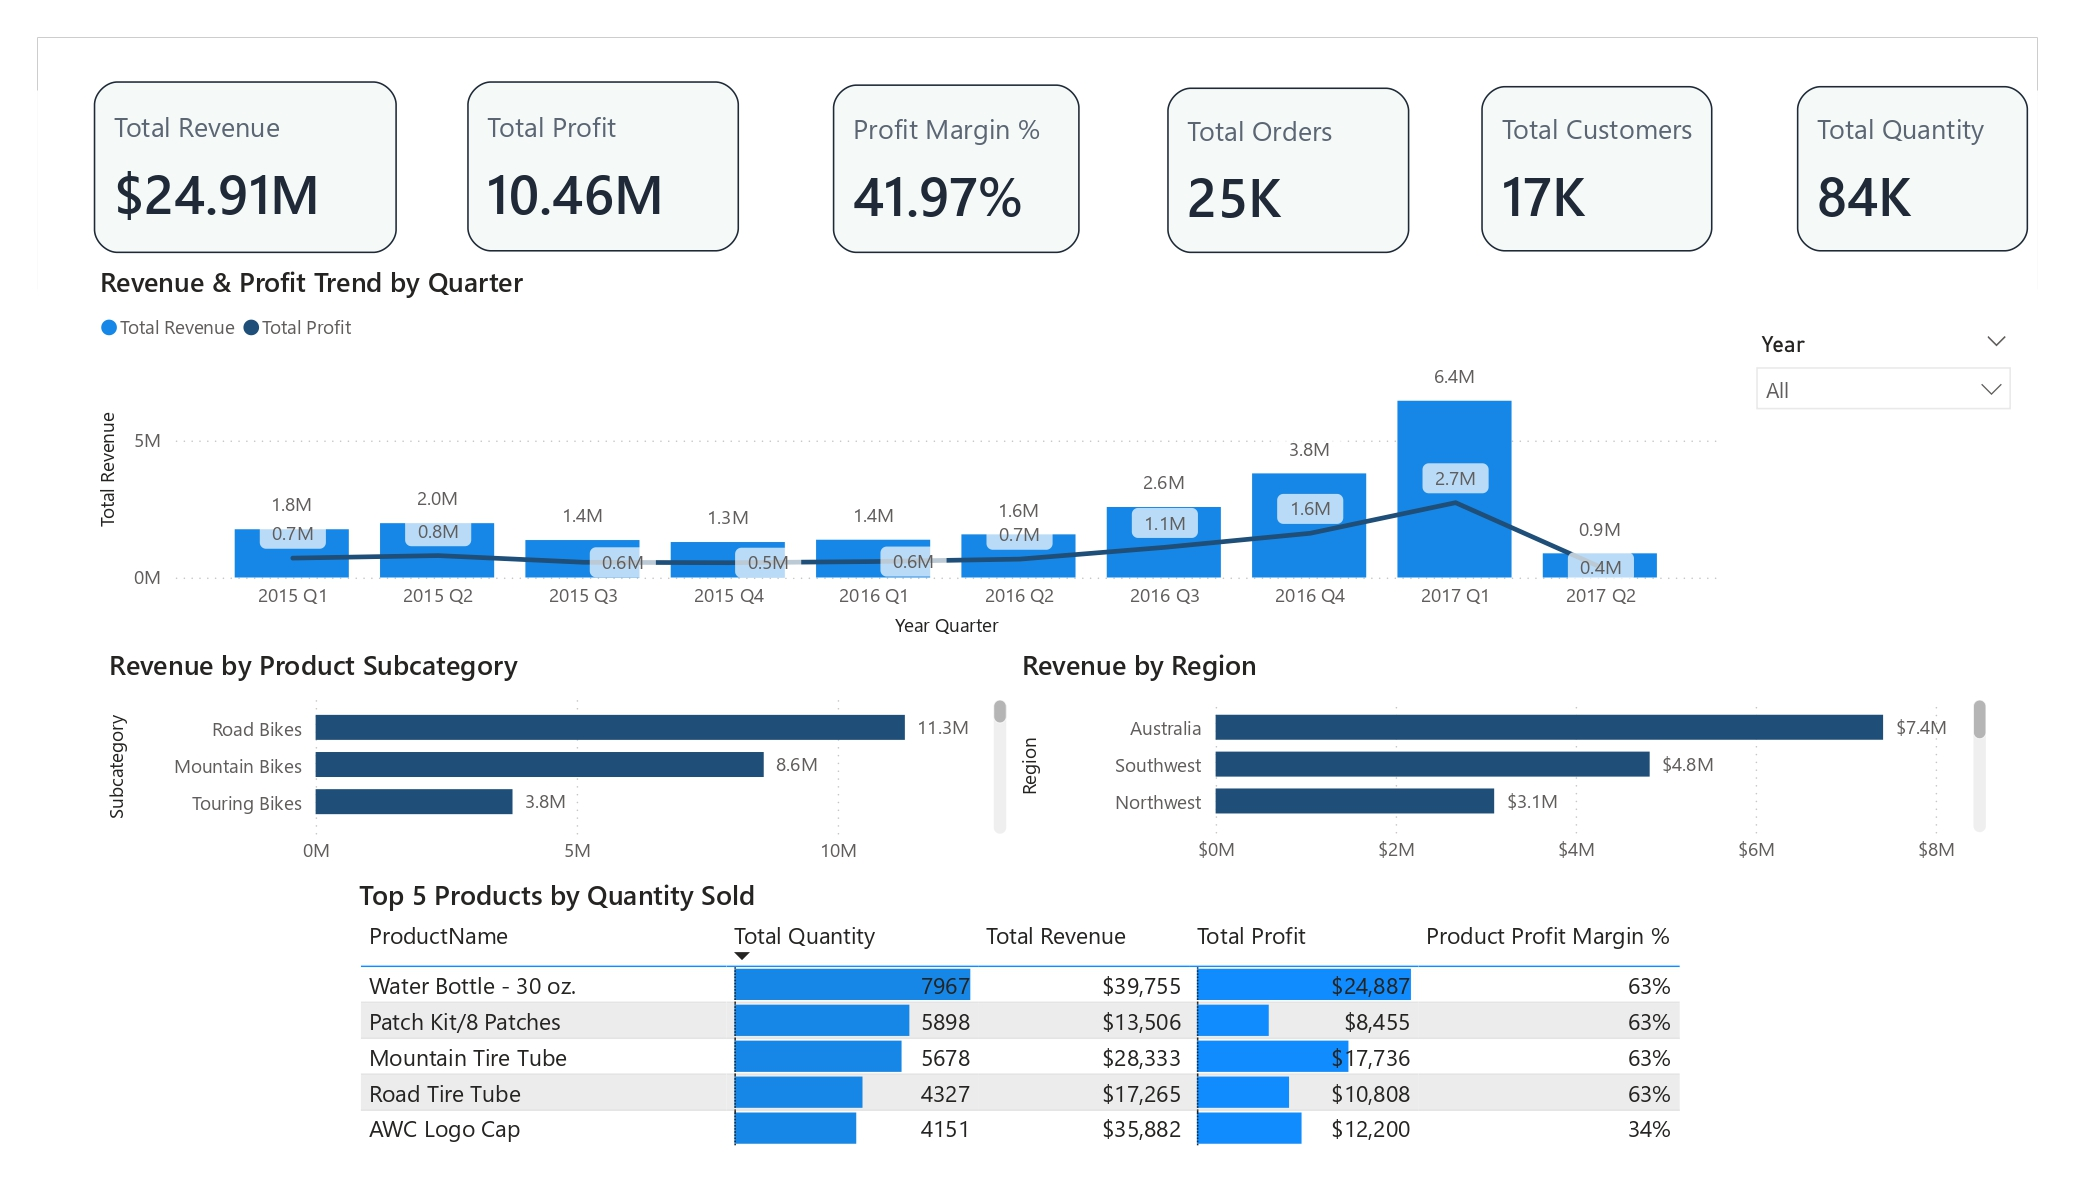

The dashboard page shown, as its layout file describes it:
{"tool":"powerbi","page":{"name":"Executive Sales & Operations Overview","canvas":[1280,720],"ordinal":0},"visuals":[{"type":"cardVisual","fields":{"Data":["Sales 2015-2017.Total Revenue"]},"box":[30.6,23.2,204.2,120],"z":0},{"type":"cardVisual","fields":{"Data":["Sales 2015-2017.Total Profit"]},"box":[269.8,23.1,184.7,119.7],"z":1000},{"type":"cardVisual","fields":{"Data":["Sales 2015-2017.Profit Margin %"]},"box":[503.5,24.5,168.8,118.3],"z":2000},{"type":"cardVisual","fields":{"Data":["Sales 2015-2017.Total Orders"]},"box":[718.5,27.4,165.9,116.9],"z":3000},{"type":"cardVisual","fields":{"Data":["Sales 2015-2017.Total Customers"]},"box":[919,26,158.7,116.9],"z":4000},{"type":"cardVisual","fields":{"Data":["Sales 2015-2017.Total Quantity"]},"box":[1121,26,158.7,116.9],"z":5000},{"type":"lineClusteredColumnComboChart","title":"Revenue & Profit Trend by Quarter","fields":{"Y":["Sales 2015-2017.Total Revenue"],"Y2":["Sales 2015-2017.Total Profit"],"Category":["Calendar.Year Quarter"]},"box":[35.5,144.3,1044.3,244.6],"z":6000},{"type":"clusteredBarChart","title":"Revenue by Region","fields":{"Category":["Territories.Region"],"Y":["Sales 2015-2017.Total Revenue"]},"box":[624.9,389.1,627.2,149.3],"z":7000},{"type":"barChart","title":"Revenue by Product Subcategory","fields":{"Category":["Product_Subcategories.SubcategoryName"],"Y":["Sales 2015-2017.Total Revenue"]},"box":[40.5,389.4,584,150],"z":8000},{"type":"tableEx","title":"Top 5 Products by Quantity Sold","fields":{"Values":["Products.ProductName","Sales 2015-2017.Total Quantity","Sales 2015-2017.Total Revenue","Sales 2015-2017.Total Profit","Sales 2015-2017.Product Profit Margin %"]},"box":[200.5,535.6,879.2,184.6],"z":9000},{"type":"slicer","fields":{"Values":["Calendar.Year"]},"box":[1089.5,183.4,183.4,63.6],"z":10000}]}

Visuals, with their boxes on the page's 1280x720 design canvas (x1, y1, x2, y2). These are canvas units, not pixel positions in the 2075x1200 screenshot, which may show the page scaled, cropped or inside an application window:
cardVisual - Sales 2015-2017.Total Revenue: box=[31, 23, 235, 143]
cardVisual - Sales 2015-2017.Total Profit: box=[270, 23, 454, 143]
cardVisual - Sales 2015-2017.Profit Margin %: box=[504, 24, 672, 143]
cardVisual - Sales 2015-2017.Total Orders: box=[718, 27, 884, 144]
cardVisual - Sales 2015-2017.Total Customers: box=[919, 26, 1078, 143]
cardVisual - Sales 2015-2017.Total Quantity: box=[1121, 26, 1280, 143]
"Revenue & Profit Trend by Quarter" lineClusteredColumnComboChart: box=[36, 144, 1080, 389]
"Revenue by Region" clusteredBarChart: box=[625, 389, 1252, 538]
"Revenue by Product Subcategory" barChart: box=[40, 389, 624, 539]
"Top 5 Products by Quantity Sold" tableEx: box=[200, 536, 1080, 720]
slicer - Calendar.Year: box=[1090, 183, 1273, 247]
